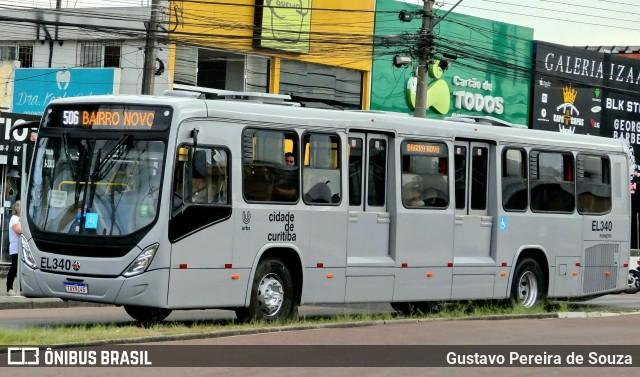BAIRRO NOVO: (79, 106, 155, 128)
